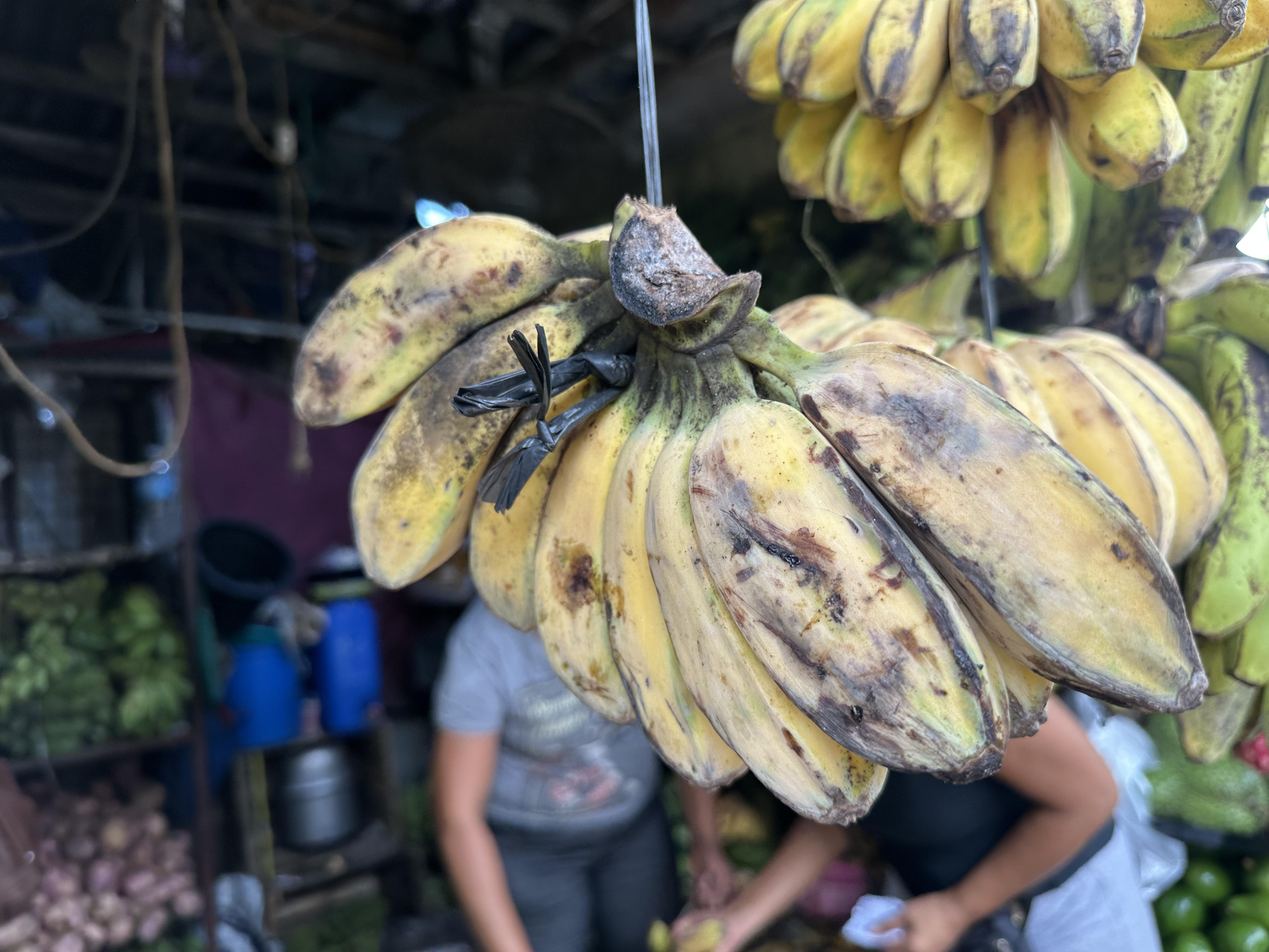ripe: (940, 328, 1229, 565), (771, 295, 940, 355)
underripe: (295, 216, 1208, 825), (733, 0, 1269, 286)
